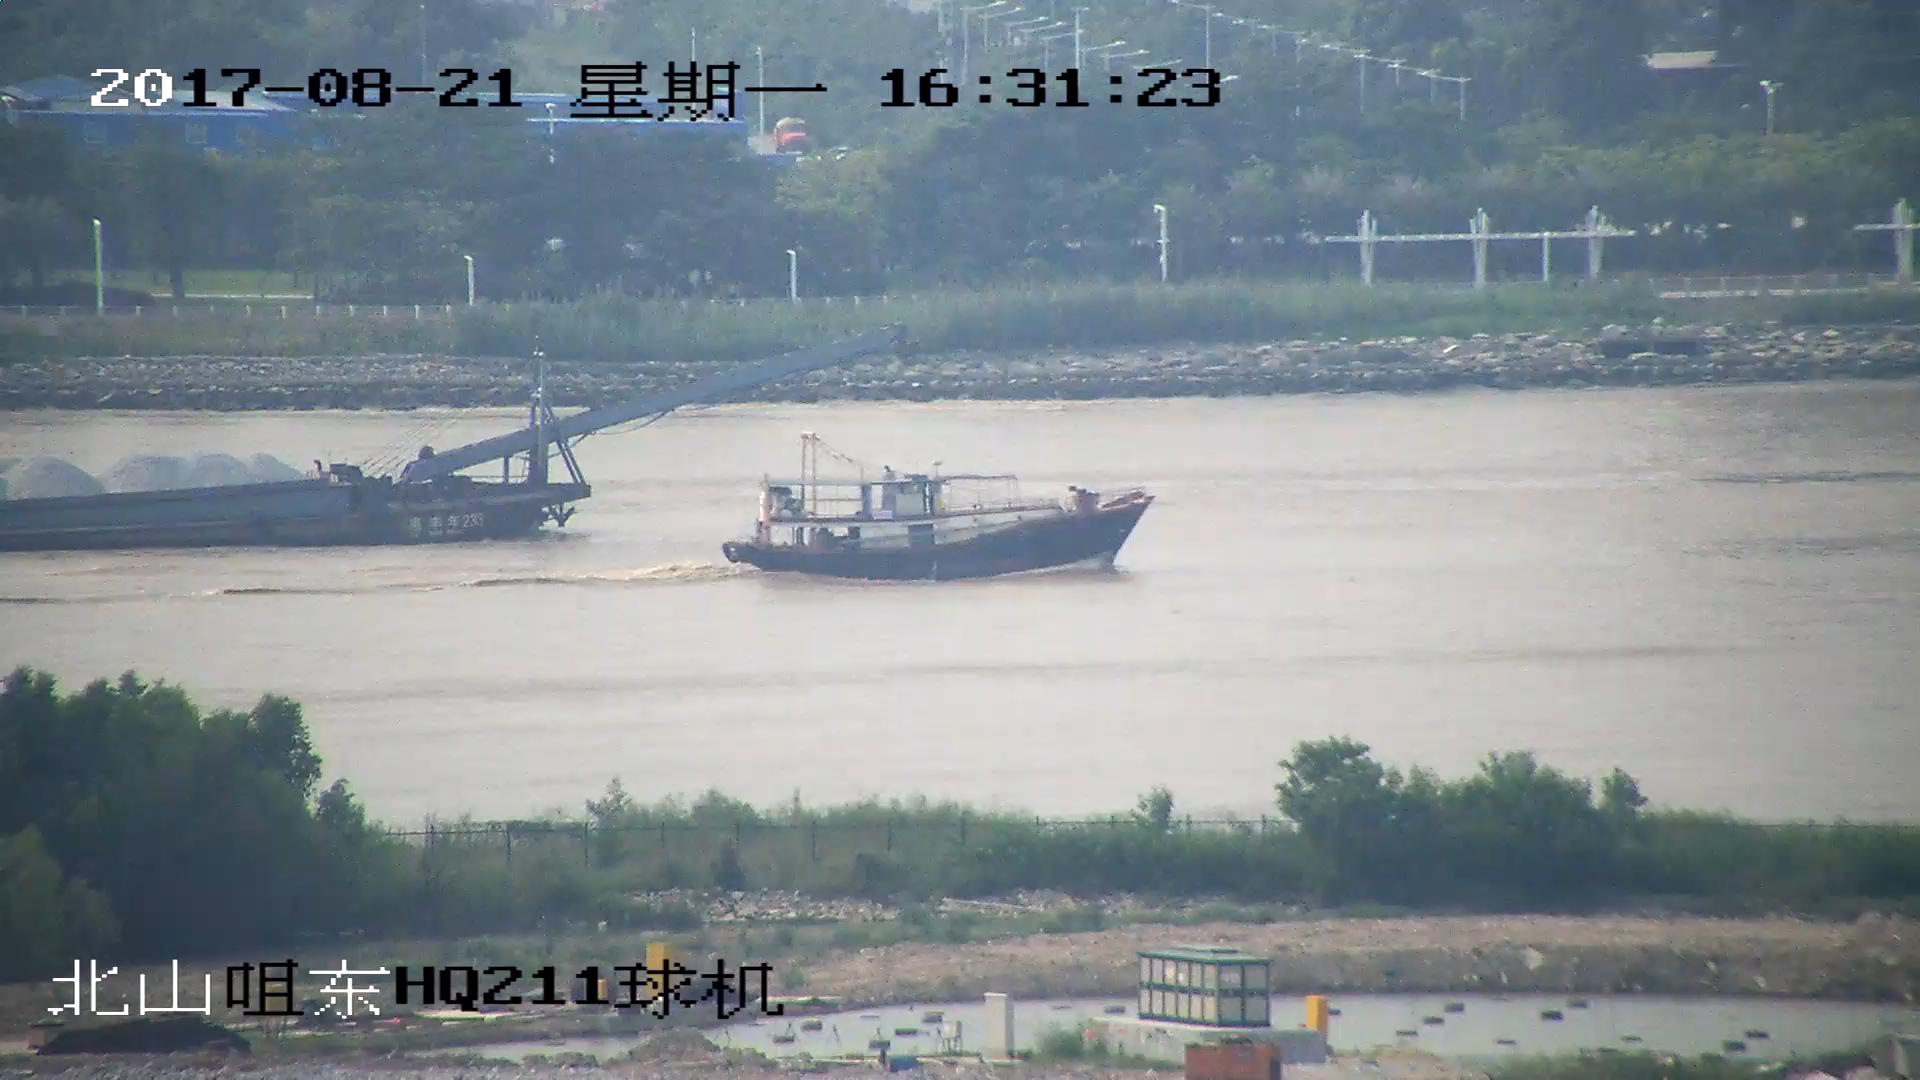fishing boat: (727, 437, 1151, 580)
ore carrier: (1, 322, 902, 547)
